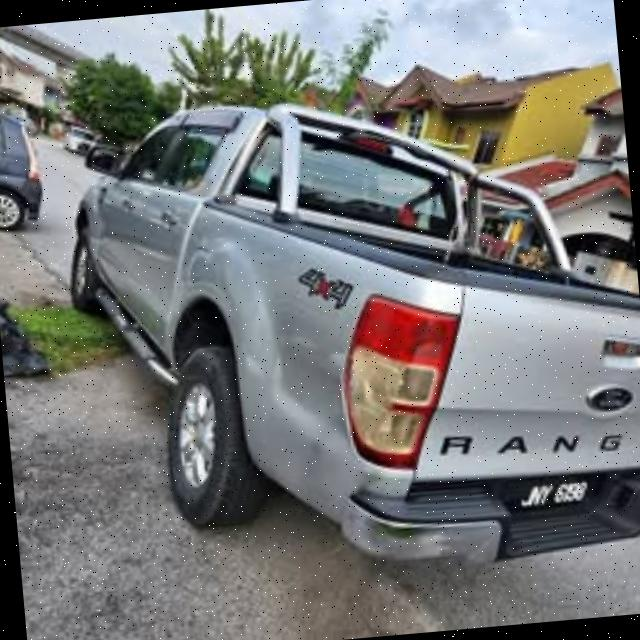License_Plate: (496, 470, 599, 518)
car: (53, 68, 640, 597)
